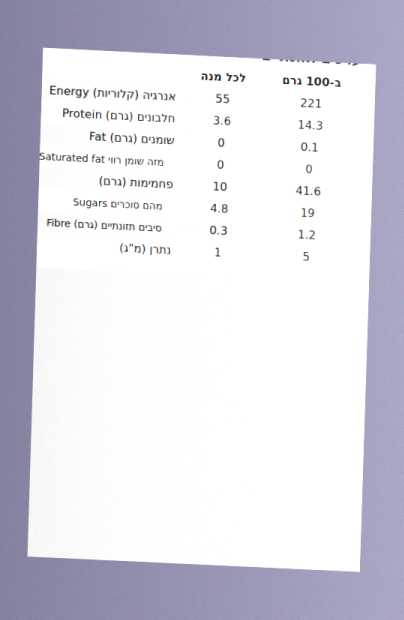carbs: (294, 182, 323, 200)
energy: (298, 94, 324, 112)
fat: (299, 138, 321, 156)
protein: (296, 116, 325, 134)
